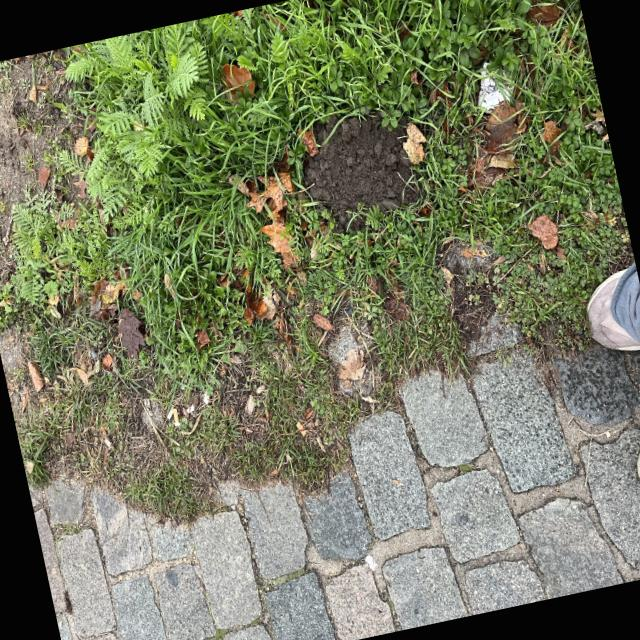plants: (211, 0, 542, 634)
weed: (78, 39, 377, 640)
